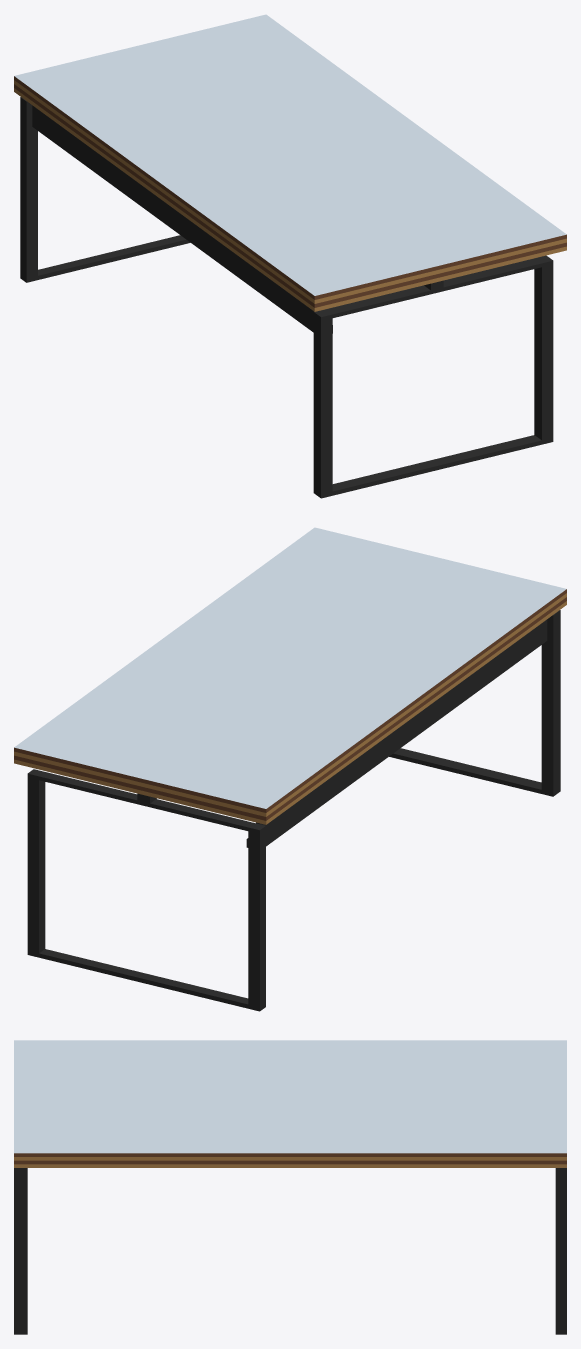
The model's file is MesaEscritorio.fbx.
3 renders of one model, top to bottom at view 1: azimuth 30°, elevation 25°; view 2: azimuth 150°, elevation 25°; view 3: azimuth 270°, elevation 25°, orthographic. The views are drawn at different scales.
Visible parts, largest first — view 1: Cube; view 2: Cube; view 3: Cube.
Part boxes in pixels (bbox=[...]): Cube: bbox=[14, 14, 566, 498]; Cube: bbox=[14, 527, 566, 1011]; Cube: bbox=[14, 1040, 566, 1334].
Size of the model in its own units: 260 by 201 by 538.
